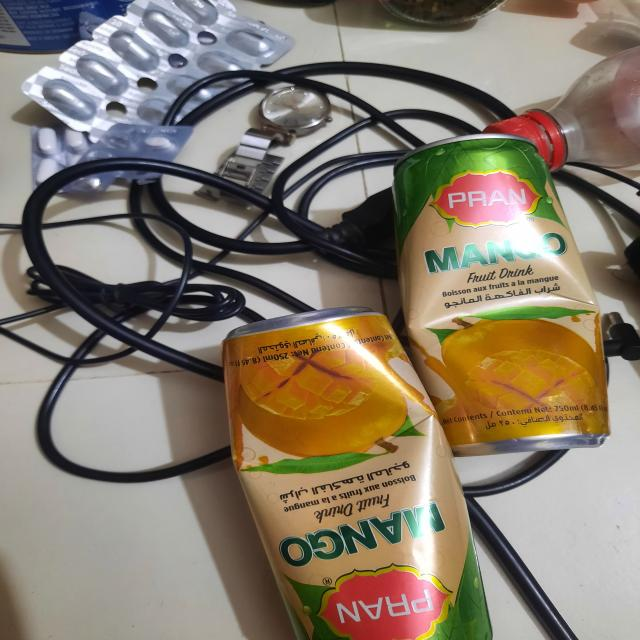Cable: (0, 130, 402, 353)
Medical Waste: (34, 0, 279, 154)
can: (194, 336, 486, 640), (418, 93, 640, 435)
